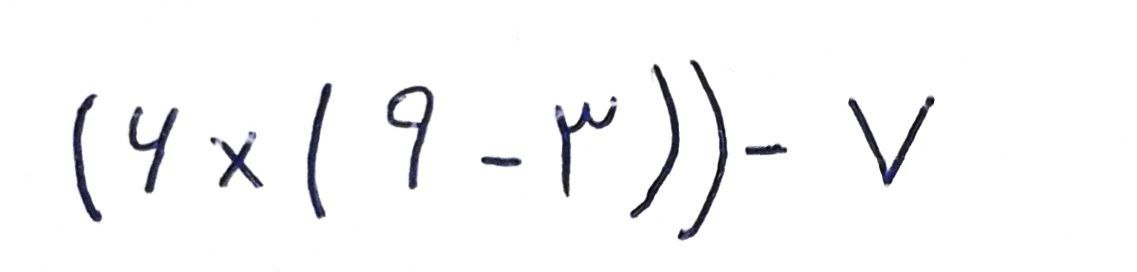character: (677, 61, 729, 237), (849, 96, 935, 186), (631, 62, 680, 218), (555, 96, 617, 197), (386, 85, 438, 190), (128, 105, 175, 193), (71, 94, 102, 223), (304, 83, 330, 218), (212, 131, 264, 190), (745, 144, 796, 154), (478, 156, 522, 166)
